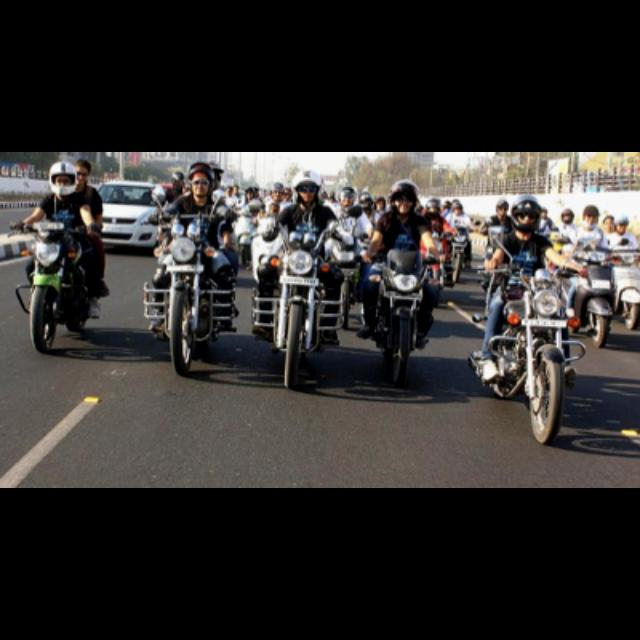With Helmet: (506, 192, 544, 234), (287, 166, 325, 206), (181, 159, 221, 197), (386, 176, 420, 214), (44, 158, 78, 190), (613, 208, 635, 236), (579, 202, 601, 226), (448, 195, 466, 217)
